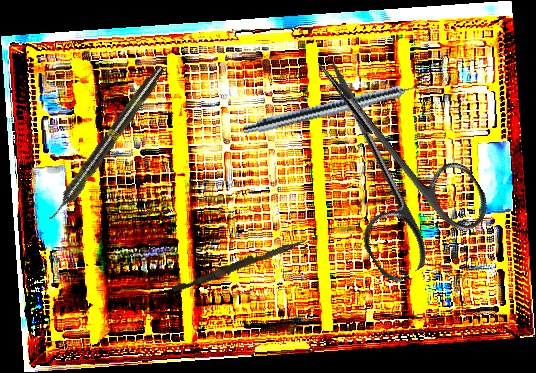Handpiece: (44, 63, 168, 225), (241, 75, 436, 141)
Iris Scissors: (267, 26, 500, 288)
Pusher: (171, 233, 307, 297)
